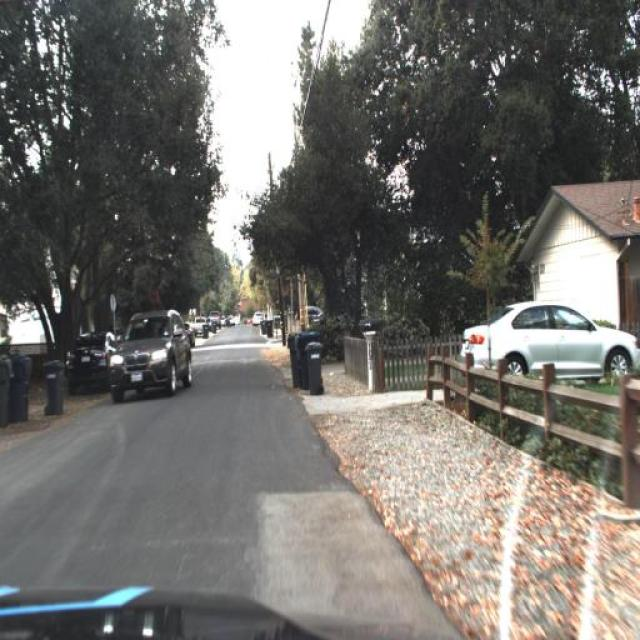car: (456, 297, 638, 391), (110, 305, 194, 404), (68, 328, 120, 388), (295, 303, 323, 326), (209, 309, 221, 335), (194, 314, 206, 336), (252, 312, 266, 326)
